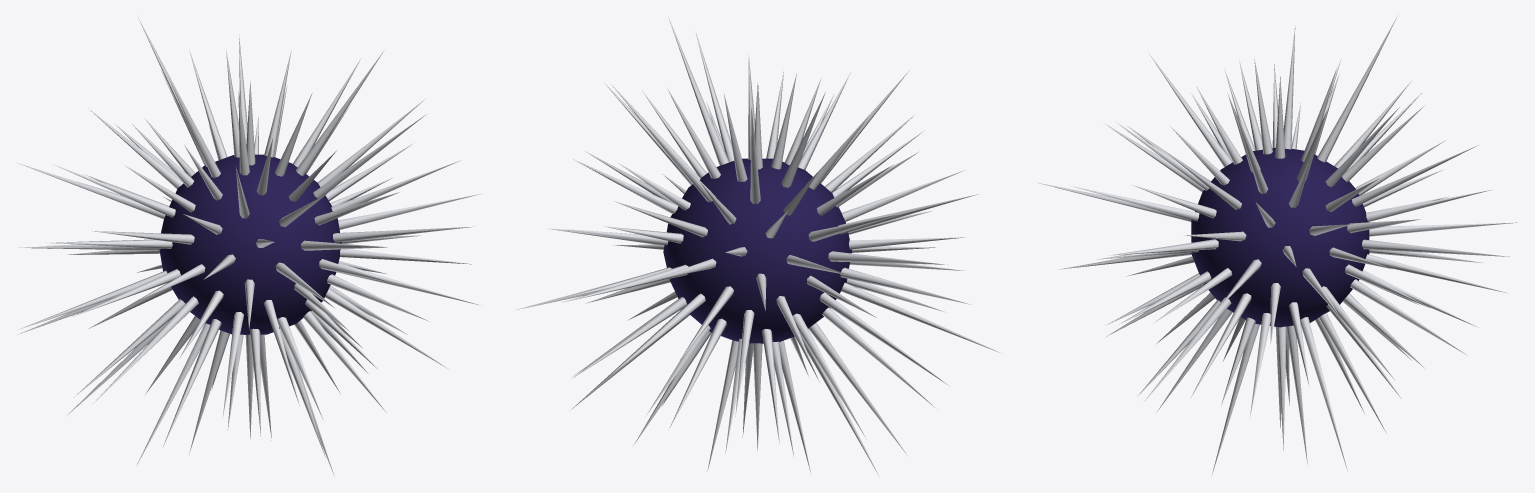
File: deco-urchin.glb
The picture shows the model from 3 angles, left to right: view 1: azimuth 30°, elevation 25°; view 2: azimuth 150°, elevation 25°; view 3: azimuth 270°, elevation 25°; orthographic projection. The views are drawn at different scales.
Bounding box in the file's own units: 2.57 × 2.52 × 2.68.
